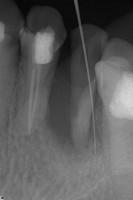Dental Caries: (45, 69, 100, 160)
